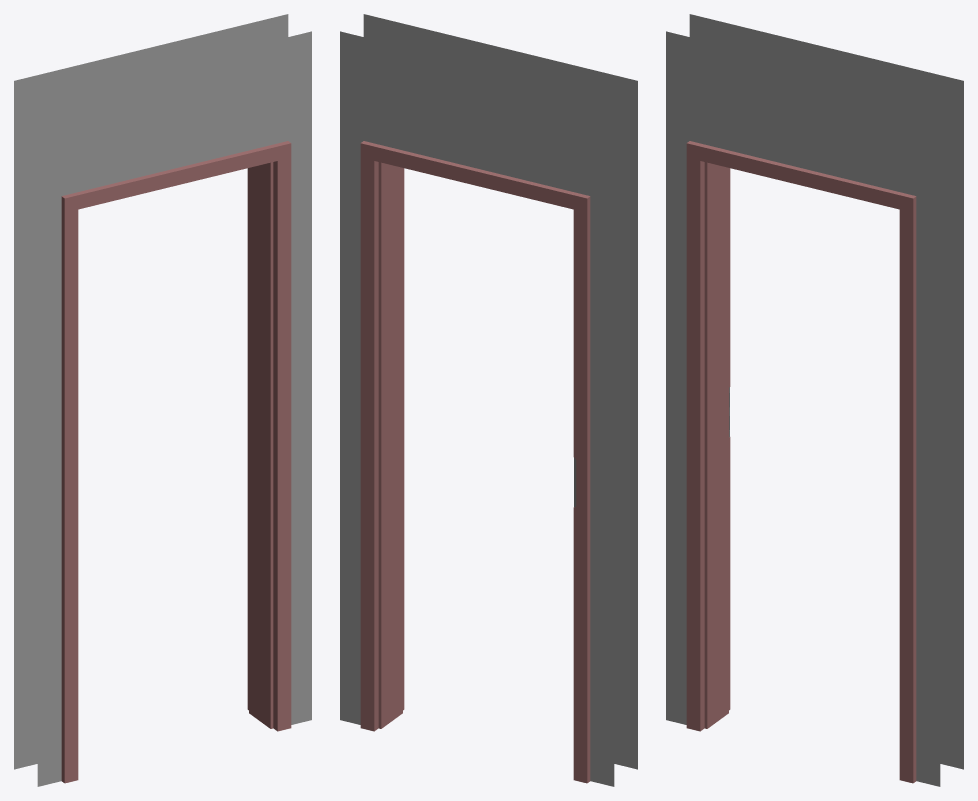
File: 15Wall100x240-Door75x200.fbx
3 renders of one model, left to right at view 1: azimuth 30°, elevation 25°; view 2: azimuth 150°, elevation 25°; view 3: azimuth 330°, elevation 25°, orthographic.
Parts seen in each view (by area): view 1: outdoorWallDoorframe, DoorFrame, indoorWallDoorframe; view 2: indoorWallDoorframe, DoorFrame, outdoorWallDoorframe; view 3: outdoorWallDoorframe, DoorFrame, indoorWallDoorframe.
Boxes of the visible parts, x1,y1,x2,y2 form: outdoorWallDoorframe: (37,31,311,786); DoorFrame: (61,141,291,783); indoorWallDoorframe: (14,14,288,769); indoorWallDoorframe: (340,31,614,786); DoorFrame: (360,141,590,783); outdoorWallDoorframe: (363,14,637,769); outdoorWallDoorframe: (666,31,940,786); DoorFrame: (686,141,916,783); indoorWallDoorframe: (689,14,963,769).
Size of the model in its own units: 1 by 2.4 by 0.19.
